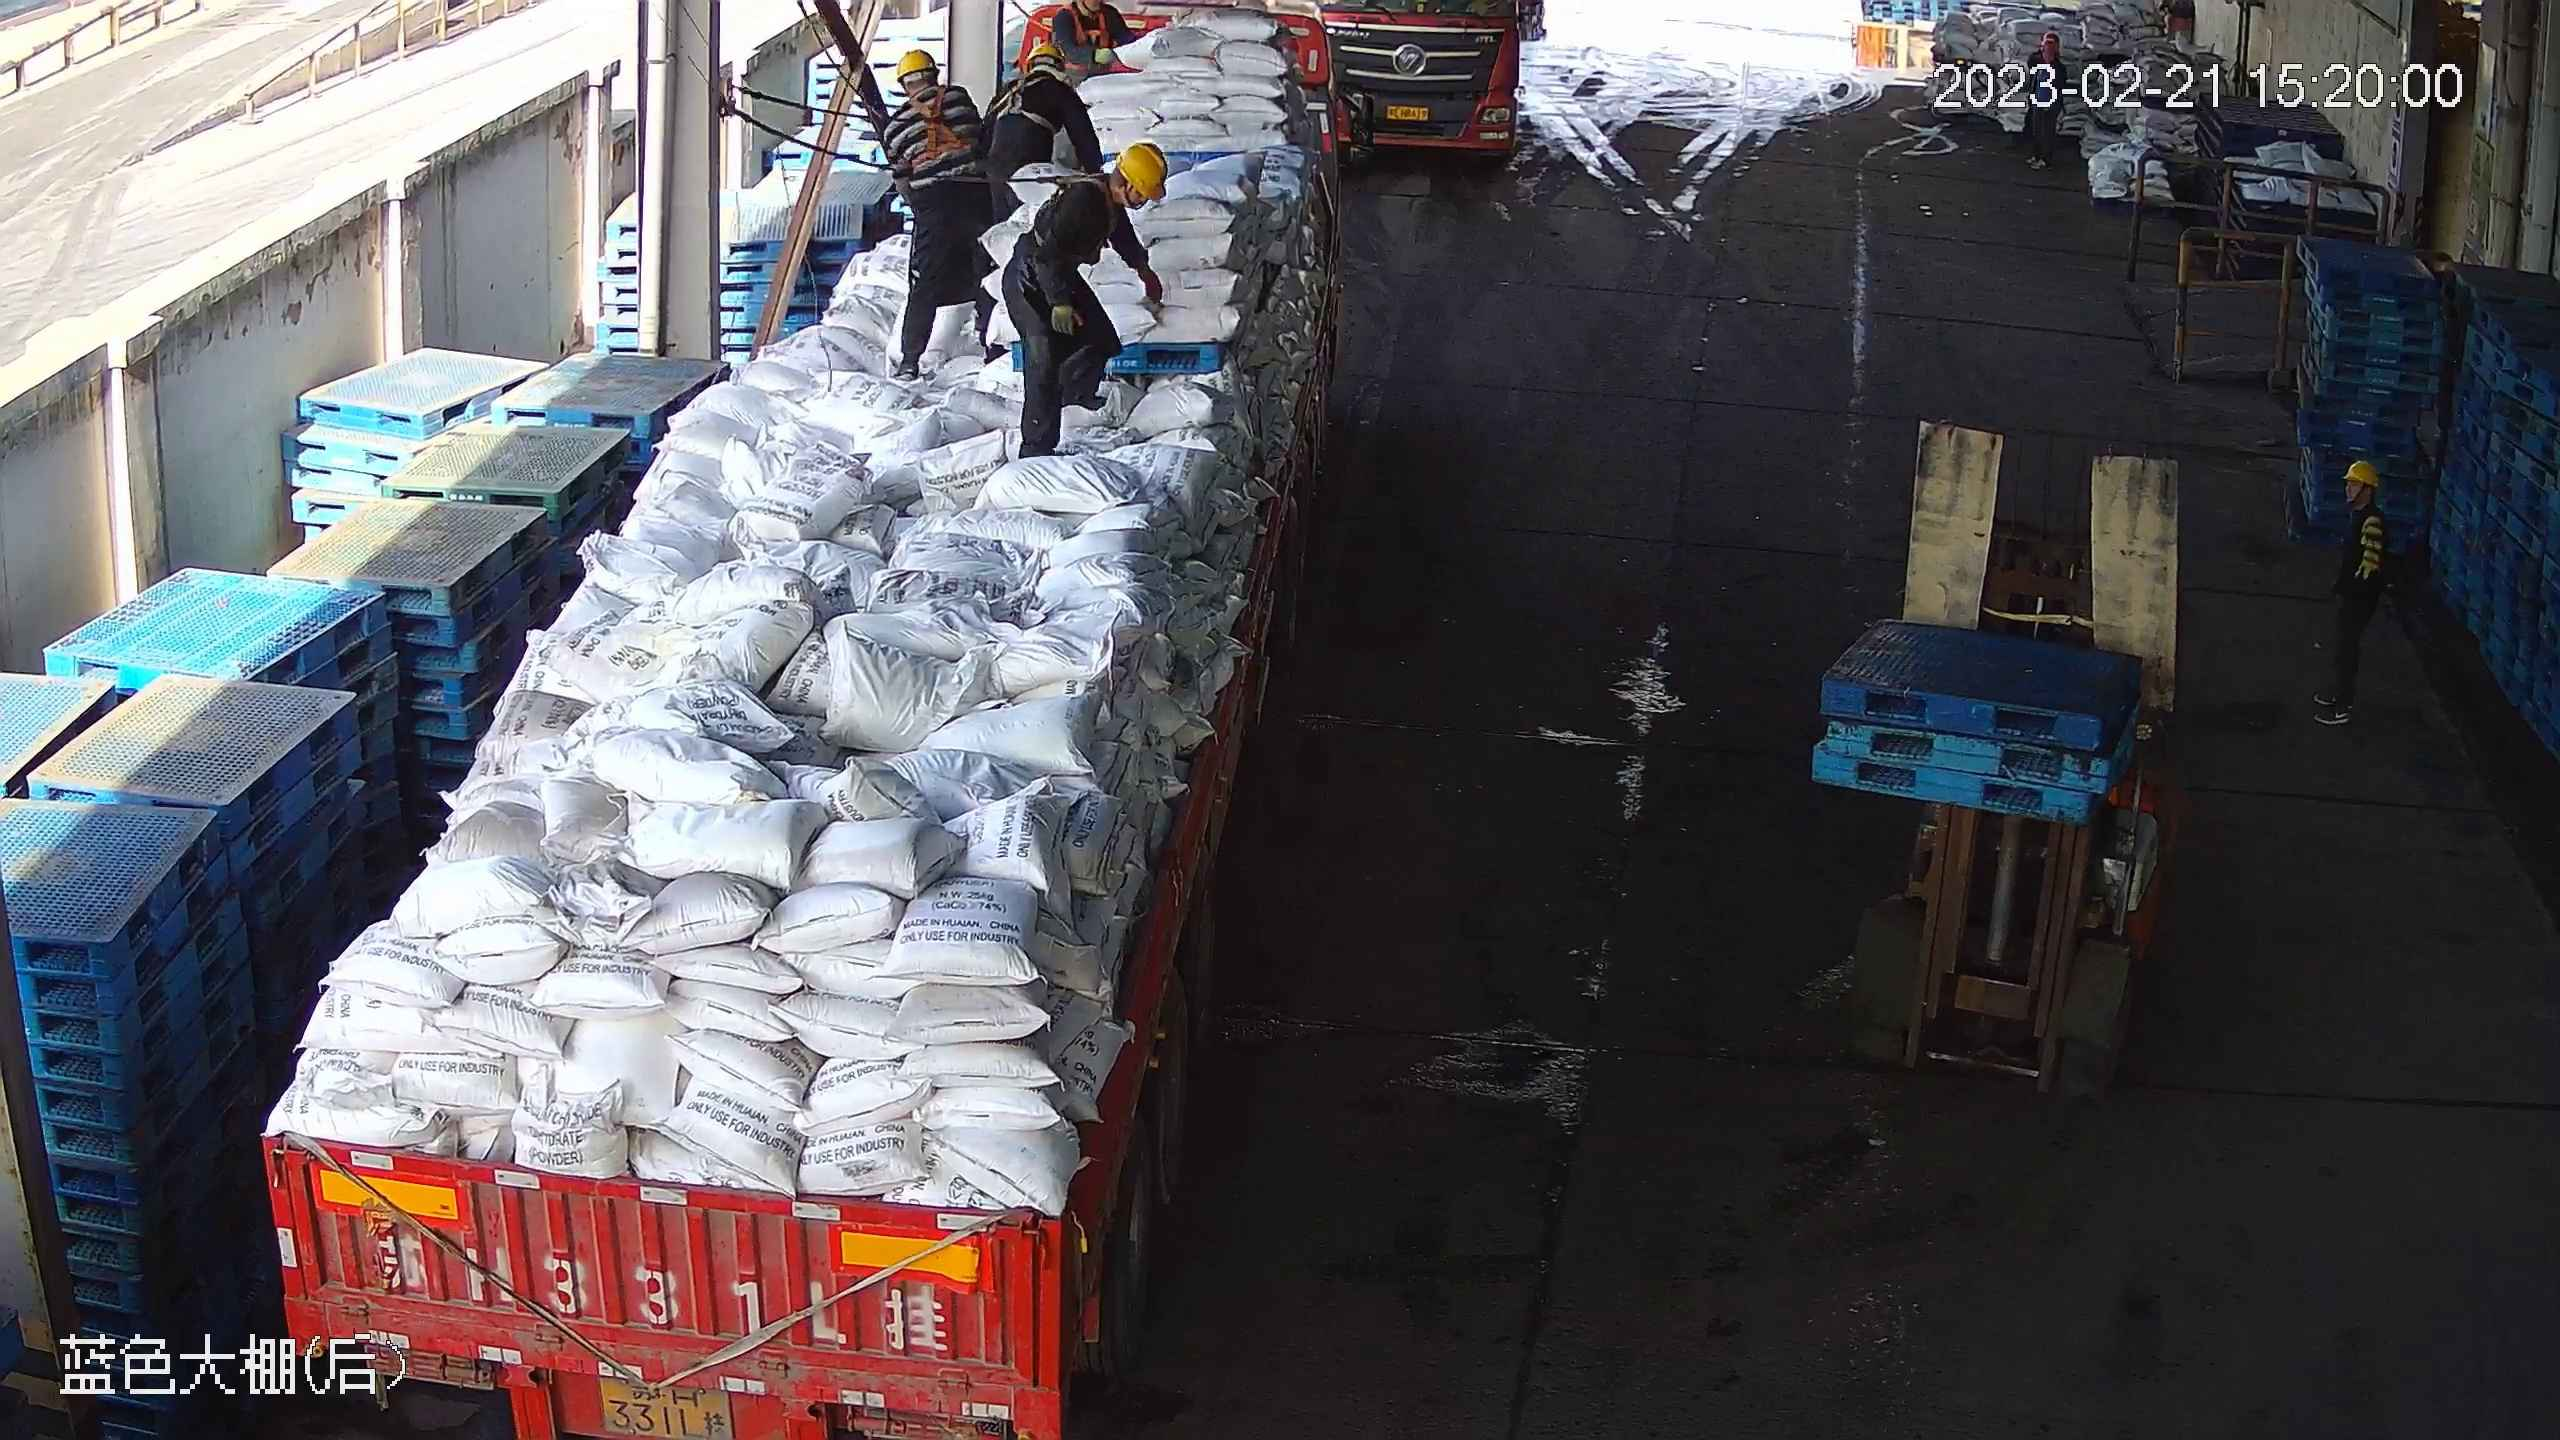belt: (1065, 2, 1127, 64), (914, 92, 964, 164), (995, 71, 1046, 129), (1046, 163, 1116, 202)
head: (1019, 144, 1165, 237), (882, 40, 980, 133), (986, 35, 1078, 118), (2323, 456, 2396, 546)
helmet: (1108, 144, 1172, 199), (890, 36, 933, 79), (2338, 461, 2388, 492), (1019, 35, 1066, 65)
people: (994, 141, 1159, 475), (879, 49, 1003, 369), (2320, 453, 2396, 747)
truck: (257, 8, 1338, 1440), (1317, 1, 1540, 171)
